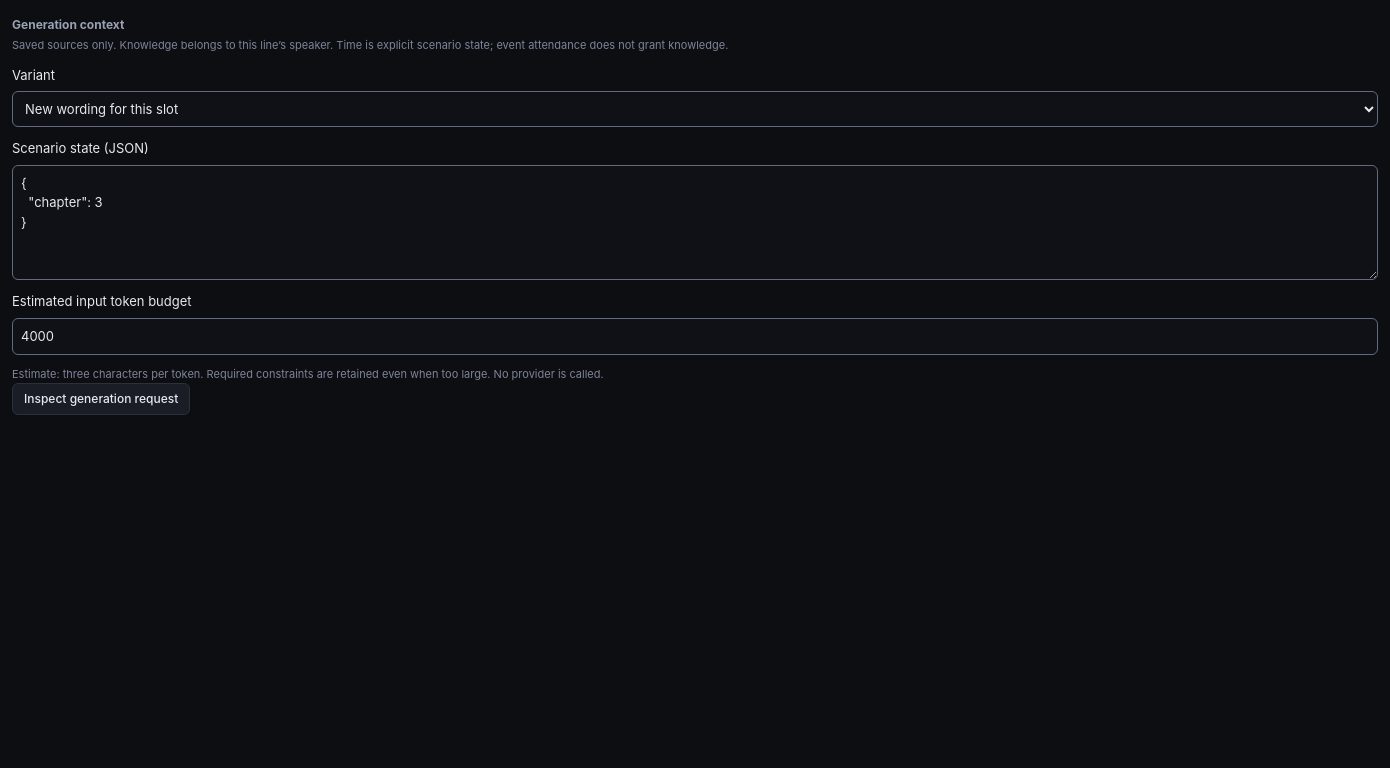
Scenario: shows blocking constraints and explicit omissions without implying a provider run
Click the button "Inspect generation request": point(101, 399) [12,383,190,415]
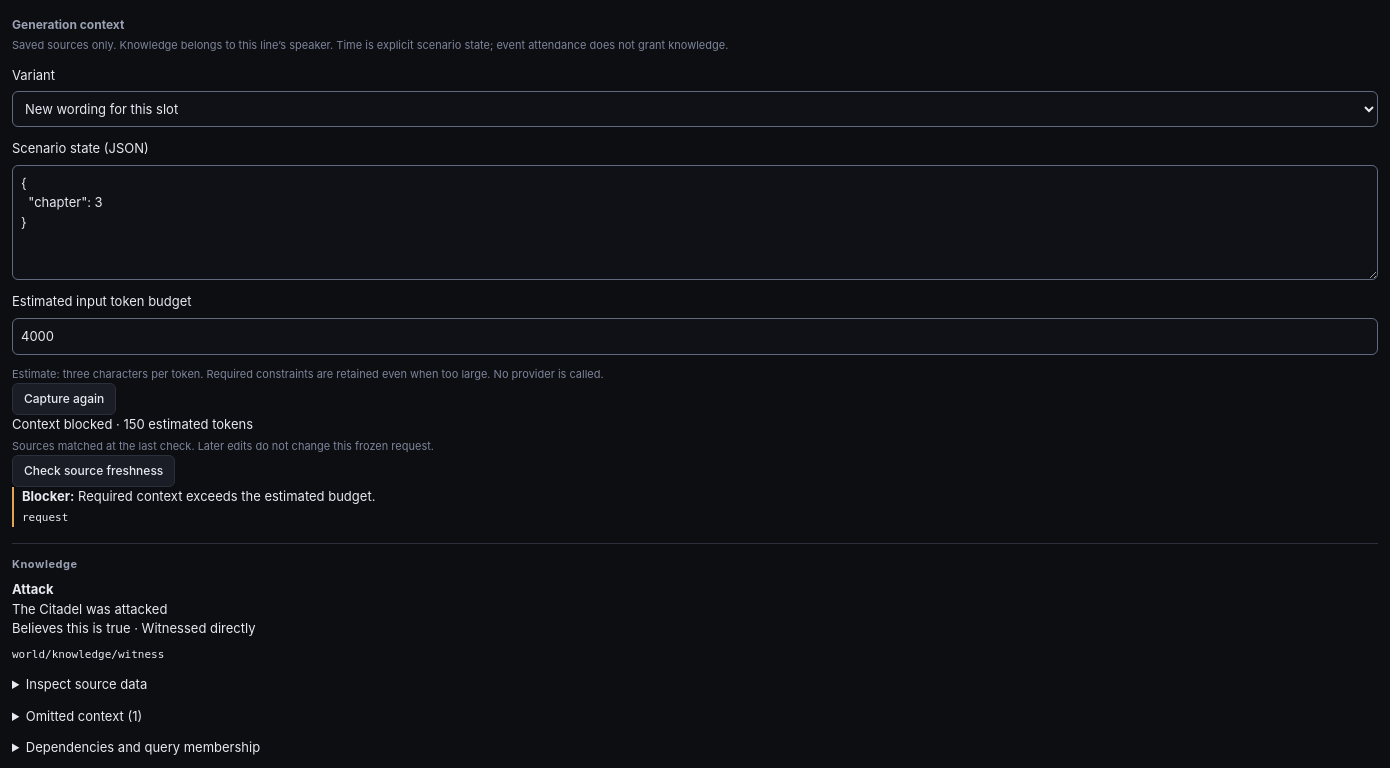
Check: the text "No provider is called" is shown, box [12,367,604,381]
Check: the text "Context blocked · 150 estimated tokens" is shown, box [12,416,253,432]
Check: the text "Required context exceeds" is shown, box [78,488,375,504]
